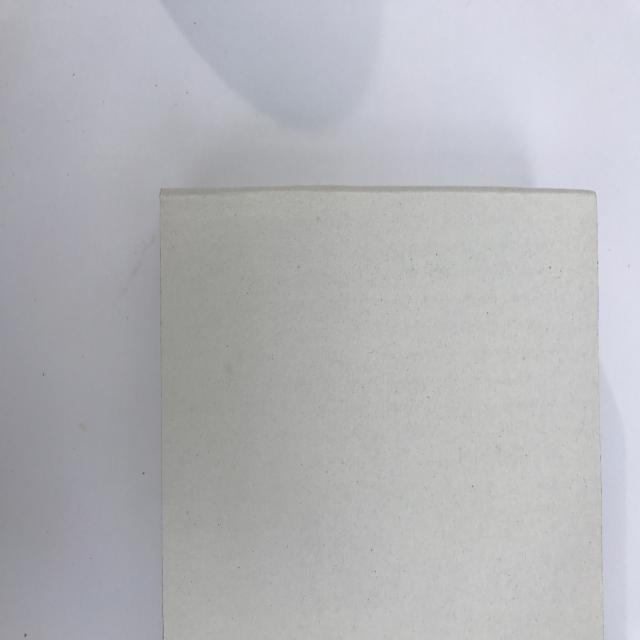cardboard: (155, 181, 606, 640)
